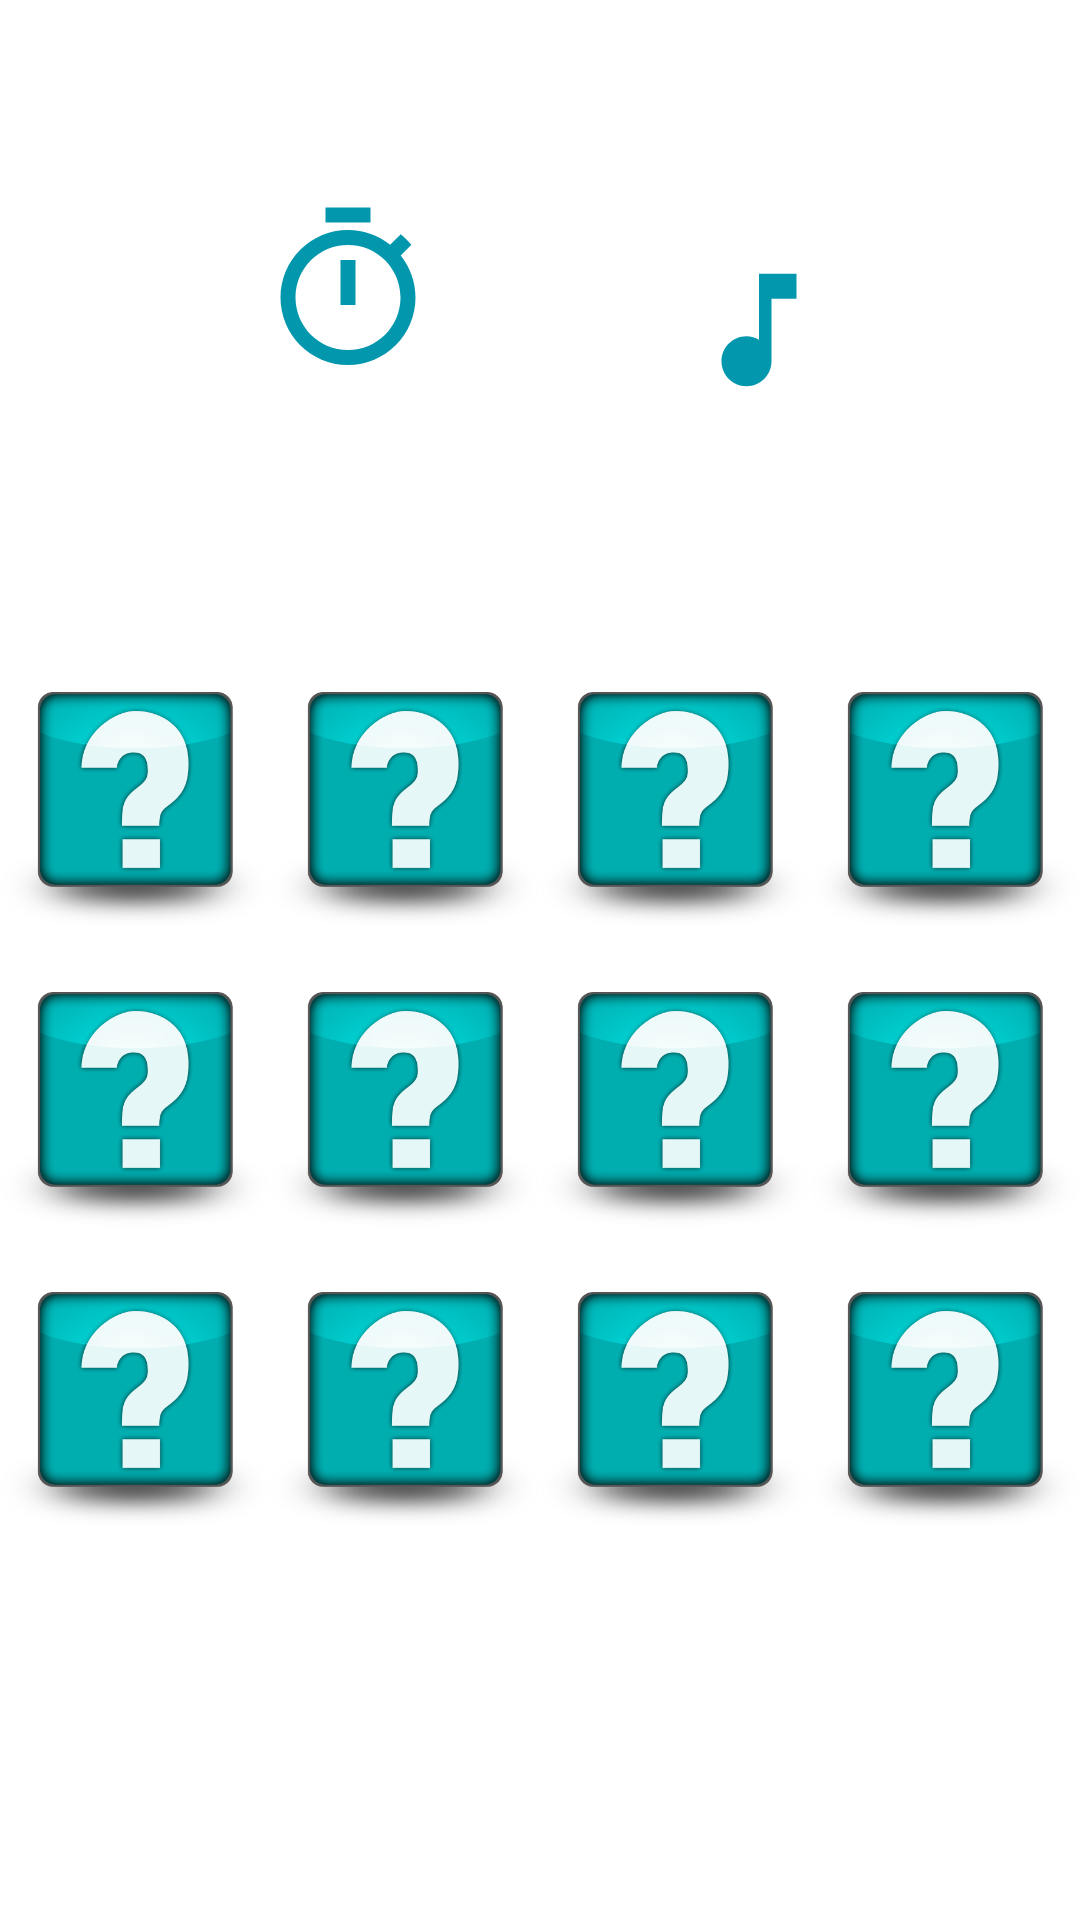

Icons on this 1080x1920 Android screen, each with its box as (x1, y1, x2, y2):
souns on: (721, 273, 797, 387)
